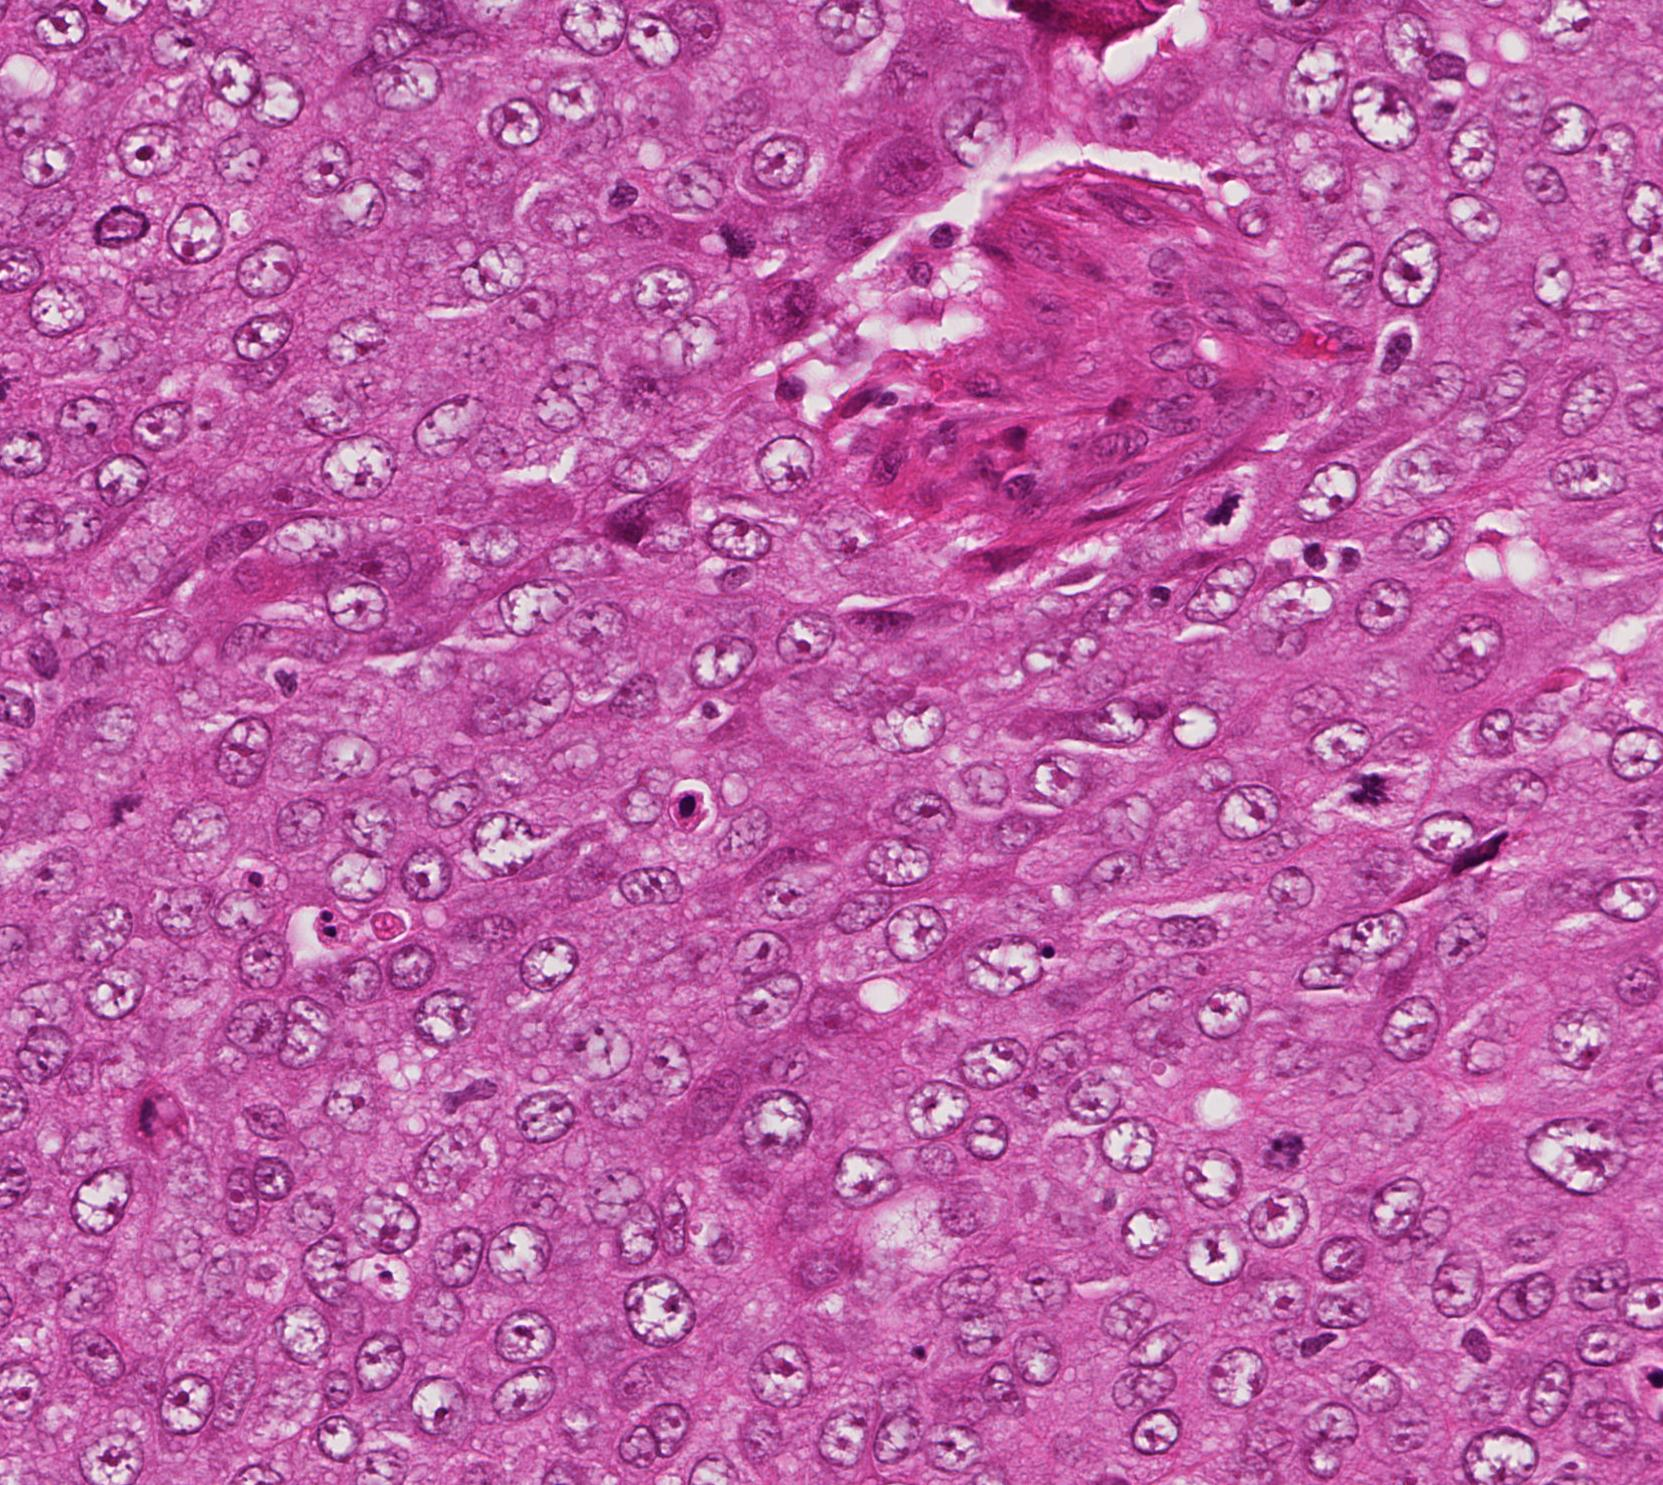mitosis: (1187, 473, 1247, 533), (1254, 1119, 1315, 1180), (1348, 755, 1406, 816), (108, 768, 166, 829)
